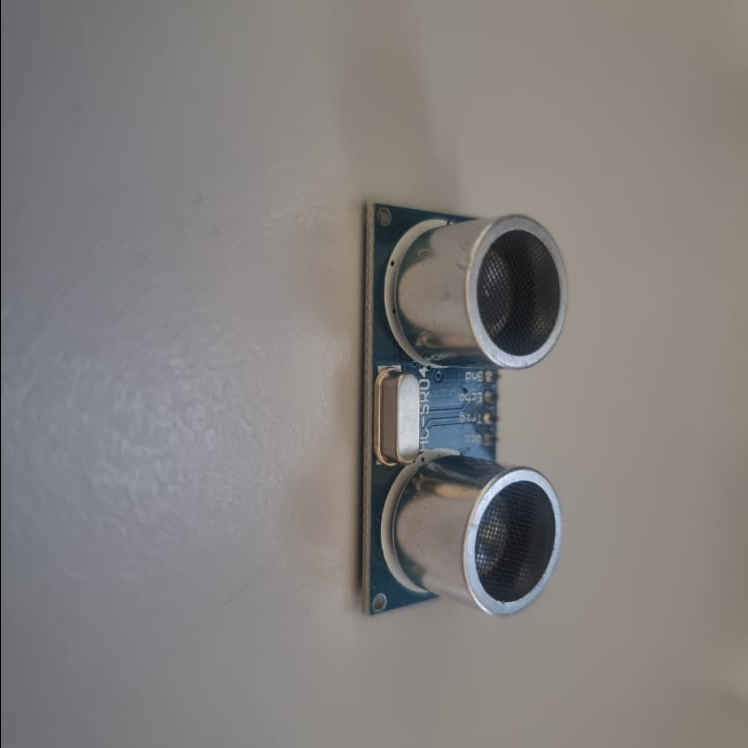SENSOR: (361, 200, 569, 621)
